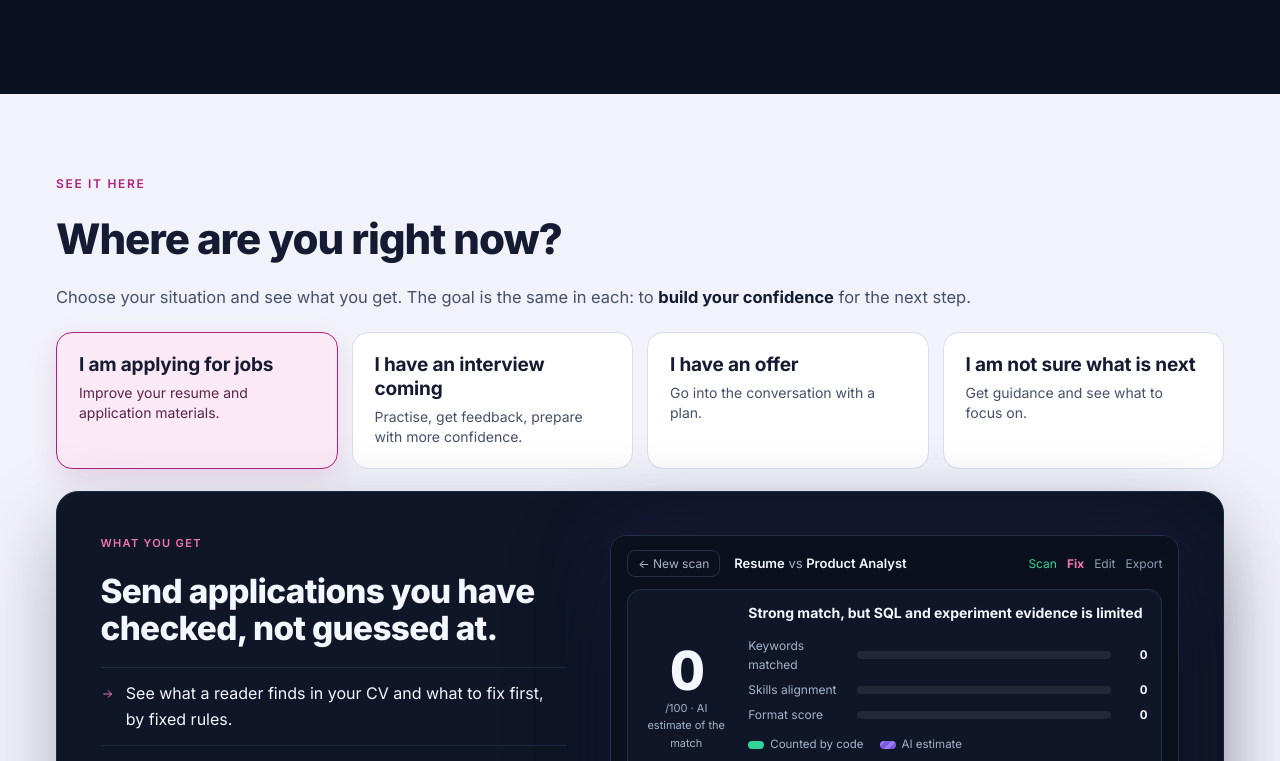
Scenario: the situation chooser › asks "Where are you right now?" with four situations and answers with what you get
(page scrolled)
Expected: the heading "Send applications you have checked, not guessed at." is shown, [100,573,566,647]
Step 1. Click the button "I have an offer Go into the conversation with a plan." → (788, 400), box [647,332,928,468]
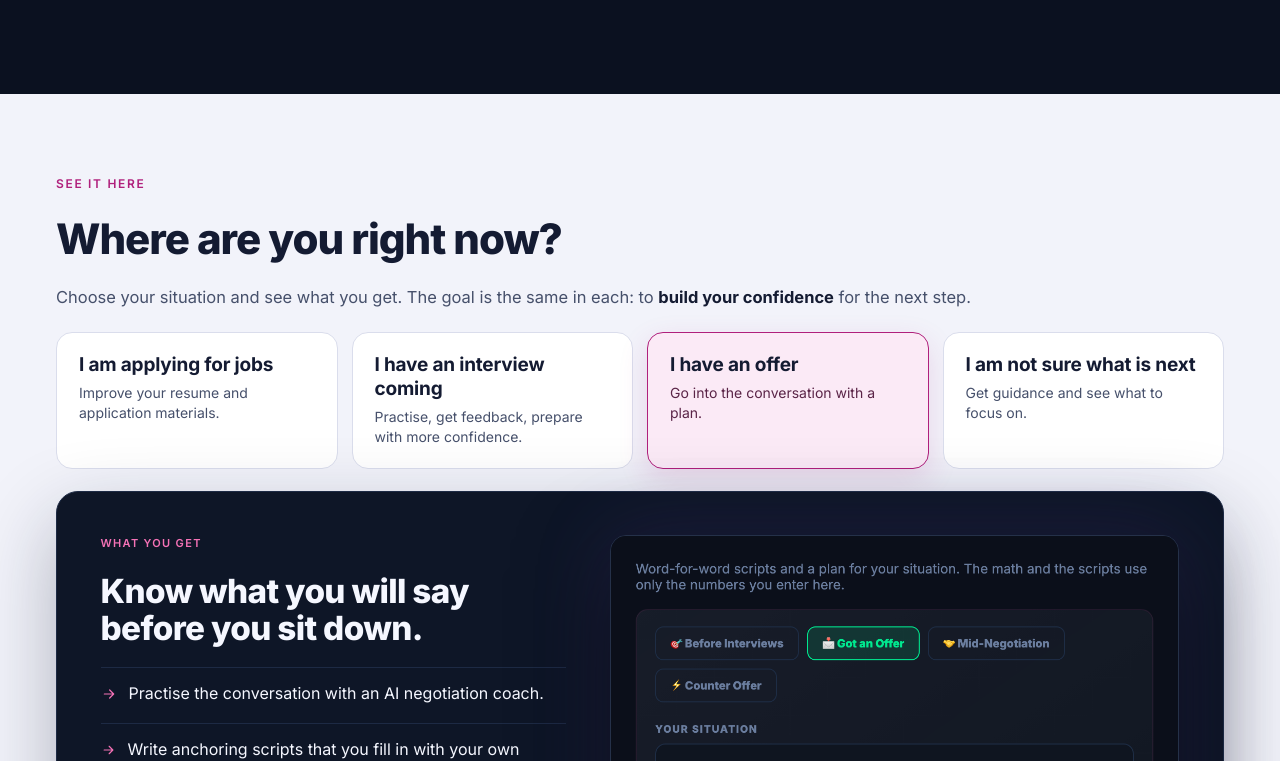
Expected: the heading "Know what you will say before you sit down." is shown, [100,571,469,648]
